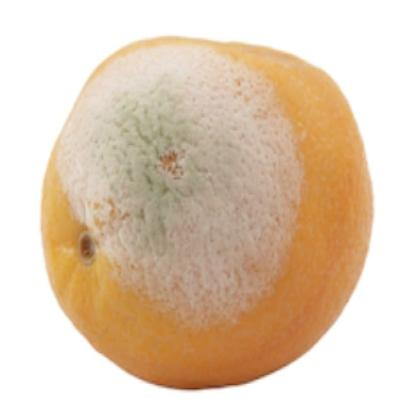rotten: (43, 37, 376, 396)
